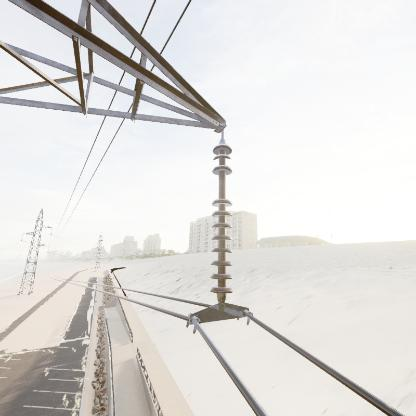insulator: (208, 140, 235, 308)
tower: (15, 205, 54, 297)
